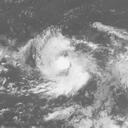cyclone: (30, 26, 93, 98)
